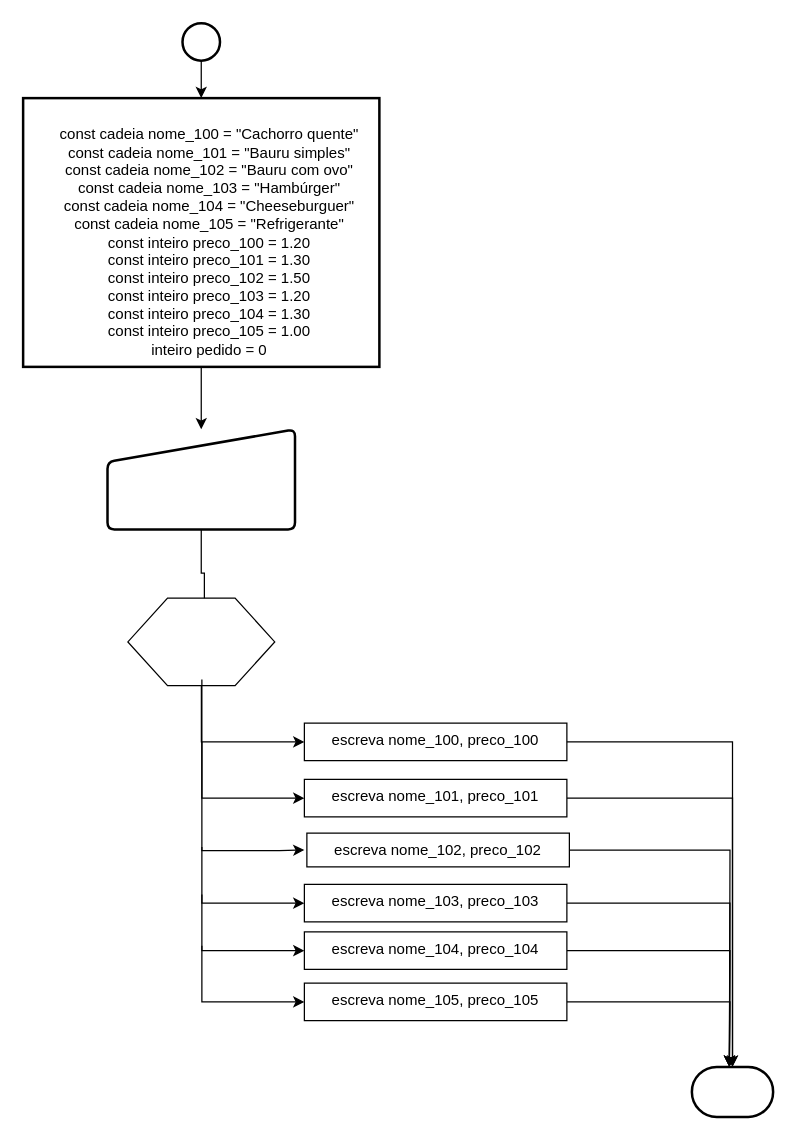
The diagram is 795 pixels wide and 1139 high, and some of its shapes have lost their labels. Each missing label, with the centre of its shape:
"escolha pedido" goes at (201,641).
"leia pedido" goes at (201,479).
